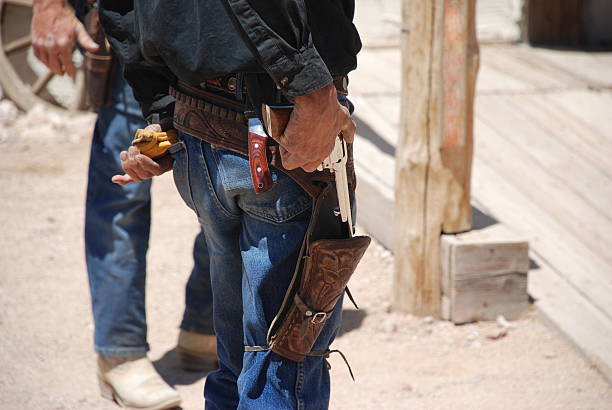gun: (262, 102, 348, 222)
